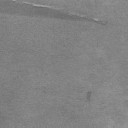finishing roll printing: (0, 0, 106, 24), (86, 91, 92, 101)
